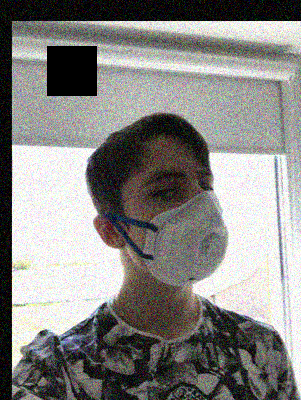with_mask: (134, 160, 228, 288)
